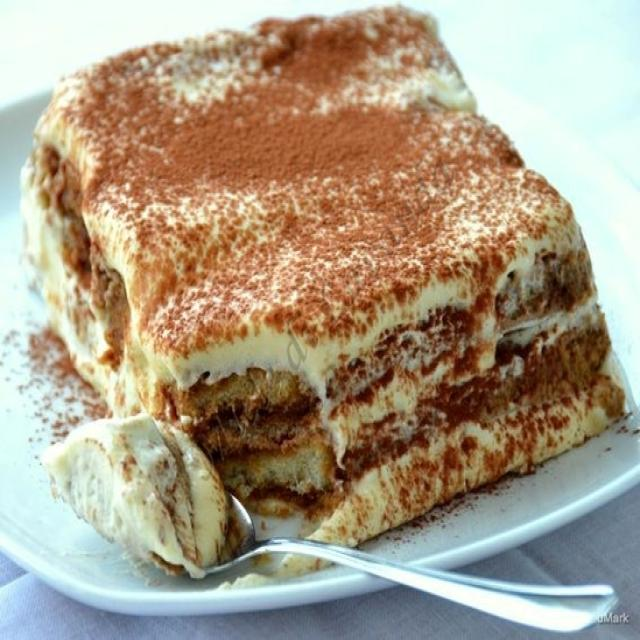蛋糕甜品: (11, 4, 630, 608)
